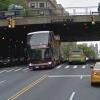Bus: (24, 28, 62, 69)
